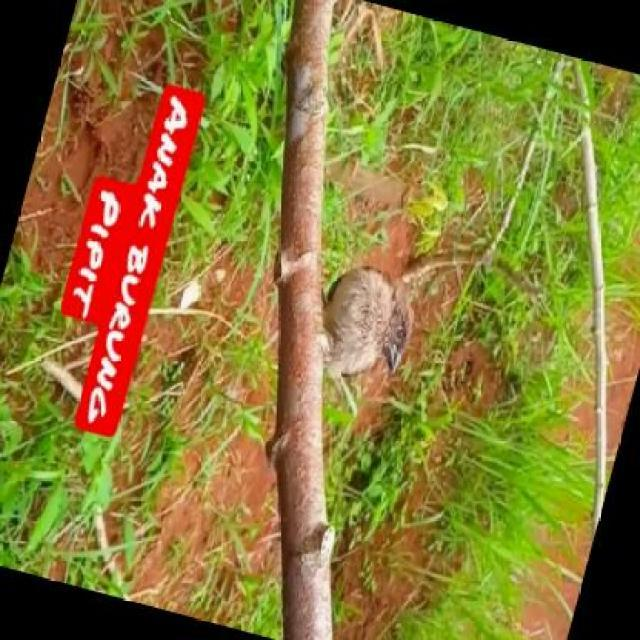Bird: (319, 261, 416, 380)
